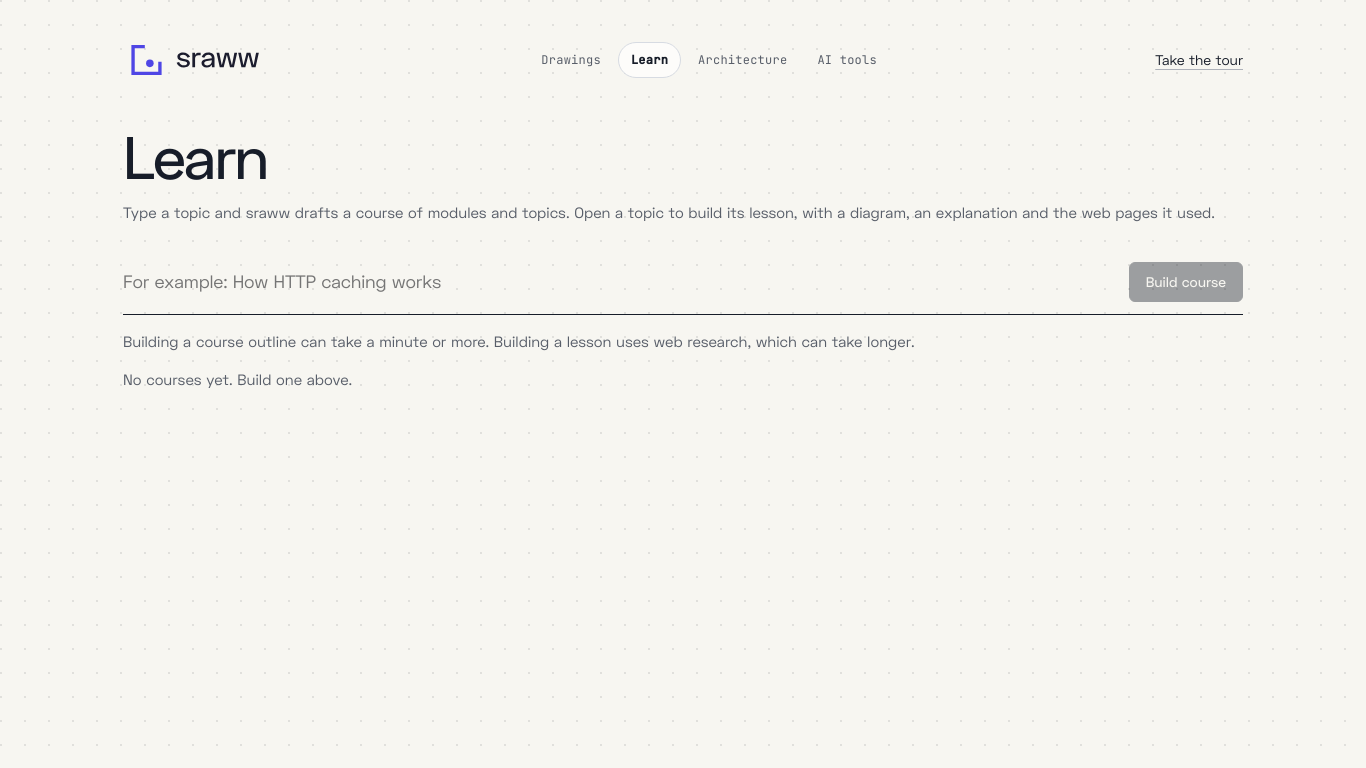
Test: LearnPage › shows a server error in an alert and keeps the form usable to try again
Type "HTTP caching" into the field named "Topic" at (620, 282), box [123,256,1117,308]
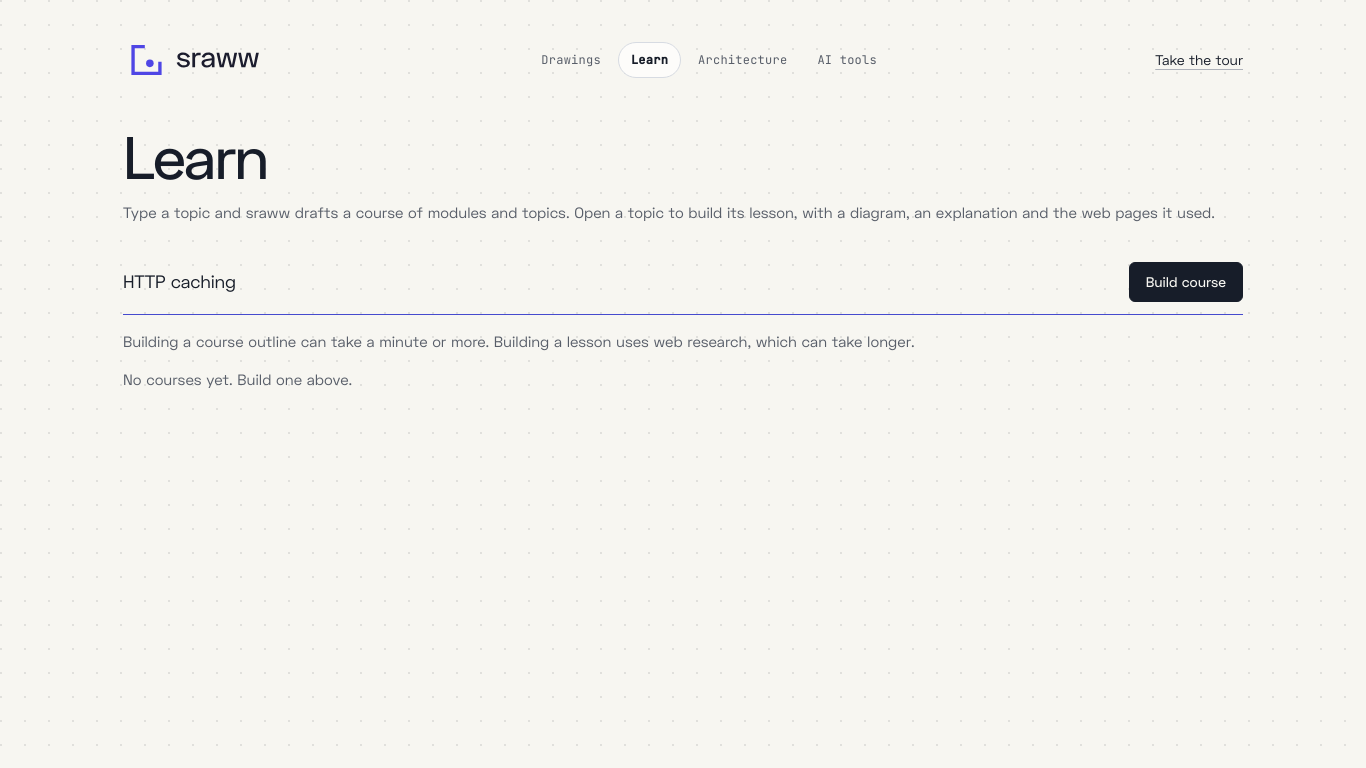
Click the button "Build course" at (1186, 282), box [1129,262,1243,302]
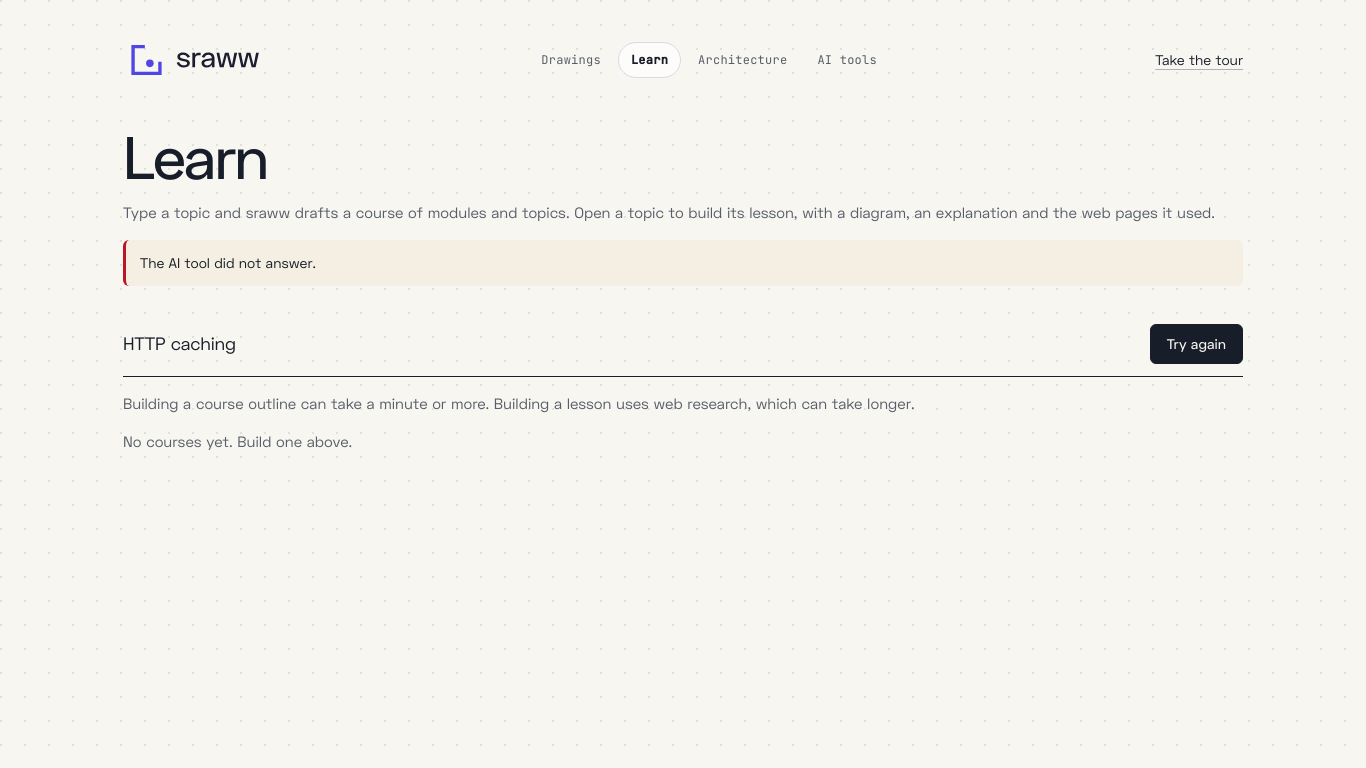
Expected: the field named "Topic" is enabled, [123,318,1138,370]
Expected: the button with aria-label "Try again: build the course outline" is enabled, [1150,324,1243,364]
Expected: the message reads "The AI tool did not answer.", [140,254,316,271]
